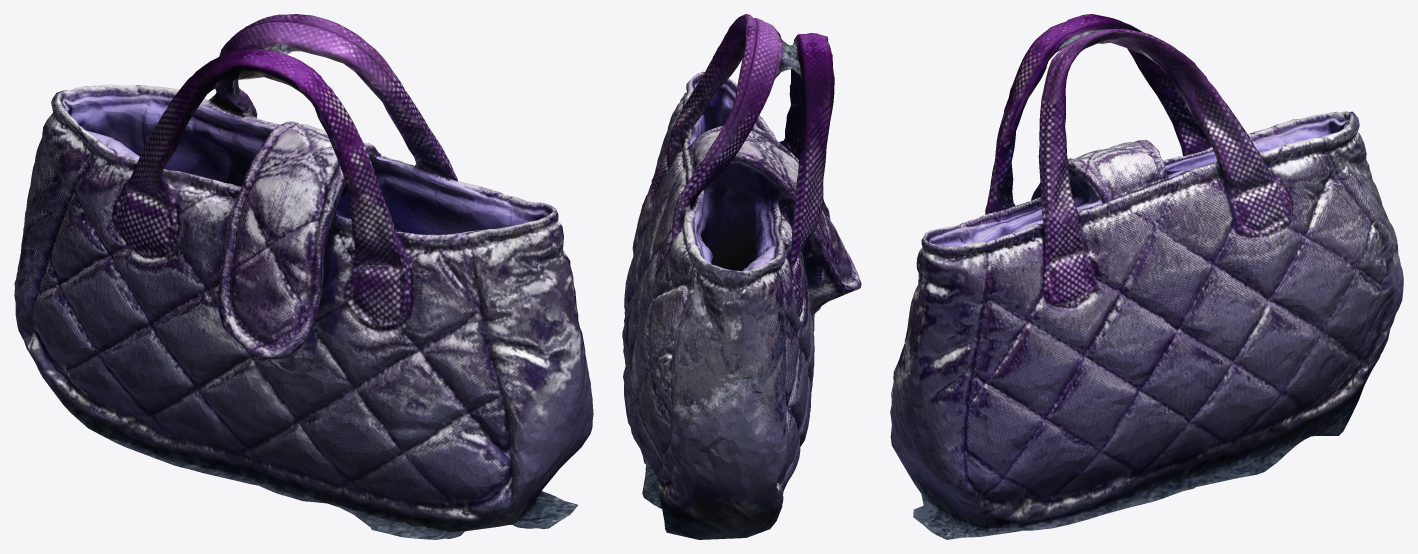
Rendered from model_New Qlone_20260518_105548327.fbx.
3 views of the same model, side by side, from view 1: azimuth 30°, elevation 25°; view 2: azimuth 150°, elevation 25°; view 3: azimuth 270°, elevation 25° (orthographic). The views are drawn at different scales.
Parts seen in each view (by area): view 1: object; view 2: object; view 3: object.
Part boxes in pixels (x1,y1,x2,y2): object: [14, 14, 593, 539]; object: [622, 14, 861, 539]; object: [890, 14, 1403, 539].
Size of the model in its own units: 419 by 523 by 560.
1 material, 1 textured.
